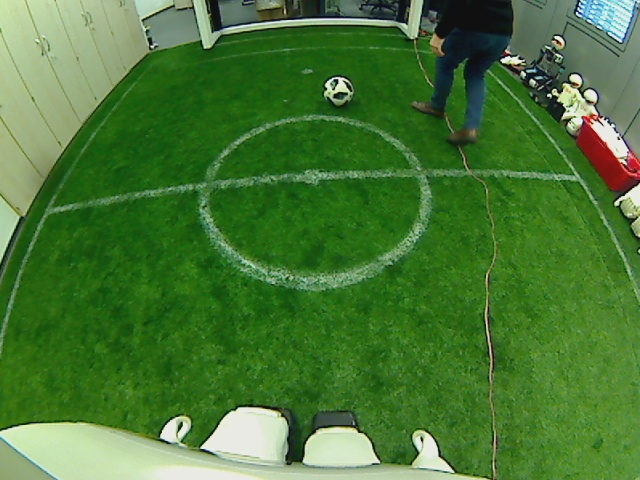ball: (322, 75, 354, 108)
